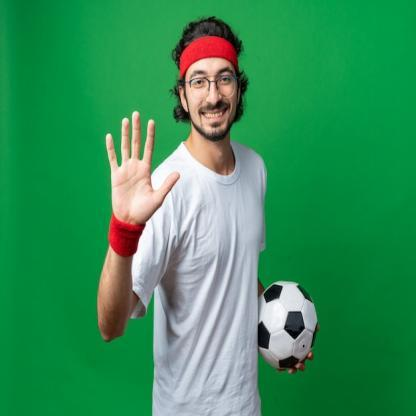stop: (104, 112, 182, 228)
